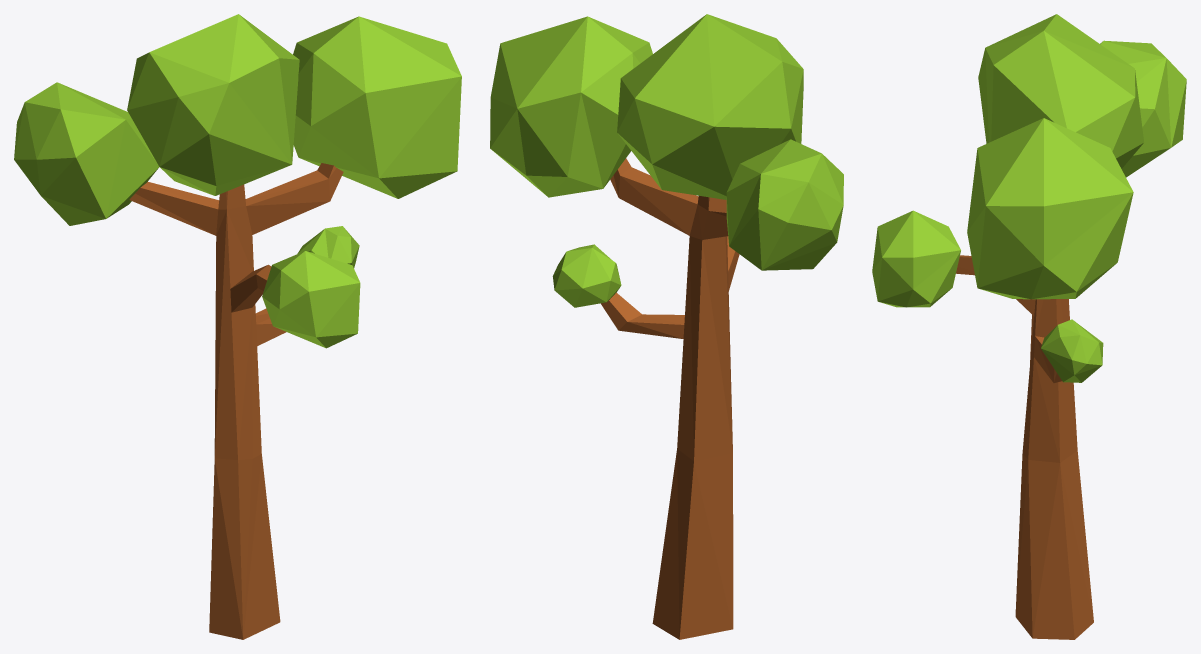
Rendered from Tree_02.glb.
3 renders of one model, left to right at view 1: azimuth 30°, elevation 25°; view 2: azimuth 150°, elevation 25°; view 3: azimuth 270°, elevation 25°, orthographic. The views are drawn at different scales.
Parts seen in each view (by area): view 1: Tree_02; view 2: Tree_02; view 3: Tree_02.
Part boxes in pixels (<box>): Tree_02: <box>14,14,461,639</box>; Tree_02: <box>490,14,843,639</box>; Tree_02: <box>872,14,1186,639</box>.
Size of the model in its own units: 1.87 by 2.78 by 1.34.
1 material, 1 textured.
